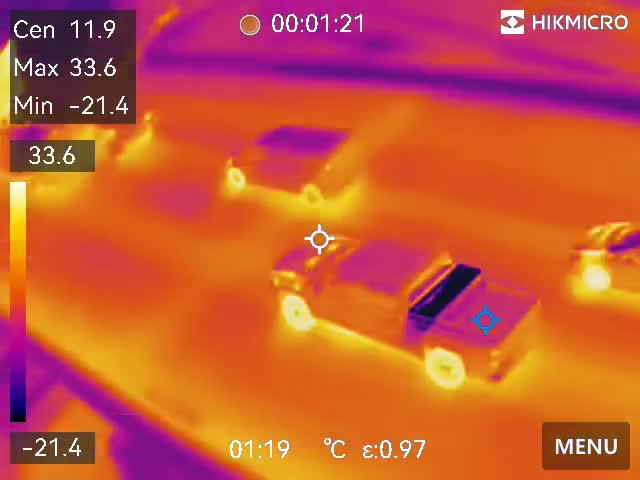lightTruck: (262, 232, 560, 409)
